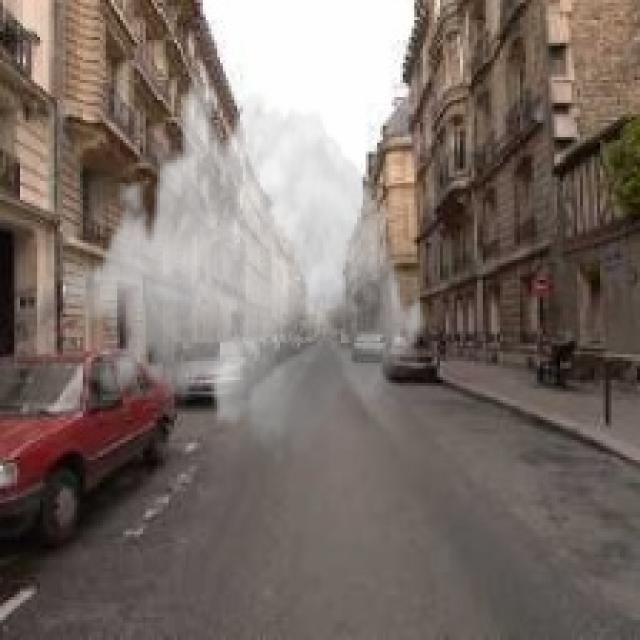smoke: (60, 66, 429, 471)
